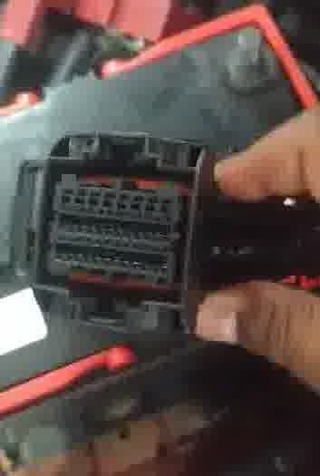connector: (32, 131, 214, 339)
